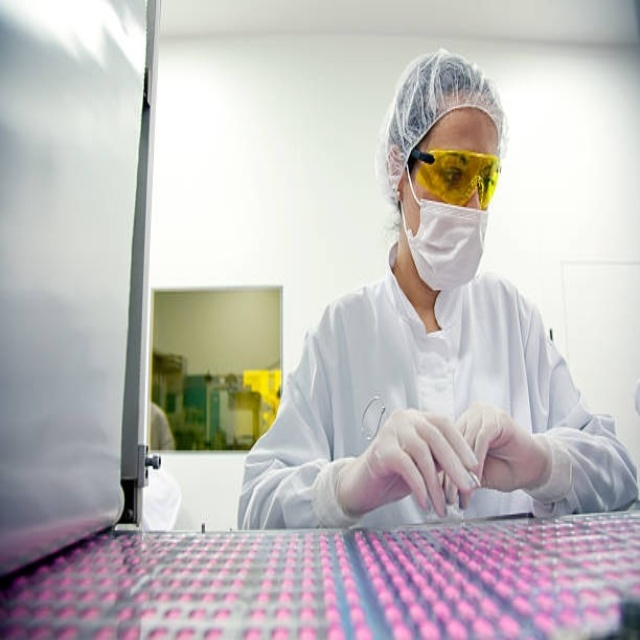Gafas: (409, 148, 501, 210)
Guantes: (361, 403, 480, 511), (448, 400, 563, 499)
Mascara: (403, 162, 489, 297)
